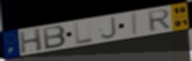B: (42, 24, 67, 51)
H: (18, 27, 44, 54)
I: (132, 12, 139, 37)
J: (100, 16, 119, 40)
L: (73, 21, 95, 45)
R: (147, 8, 173, 33)
